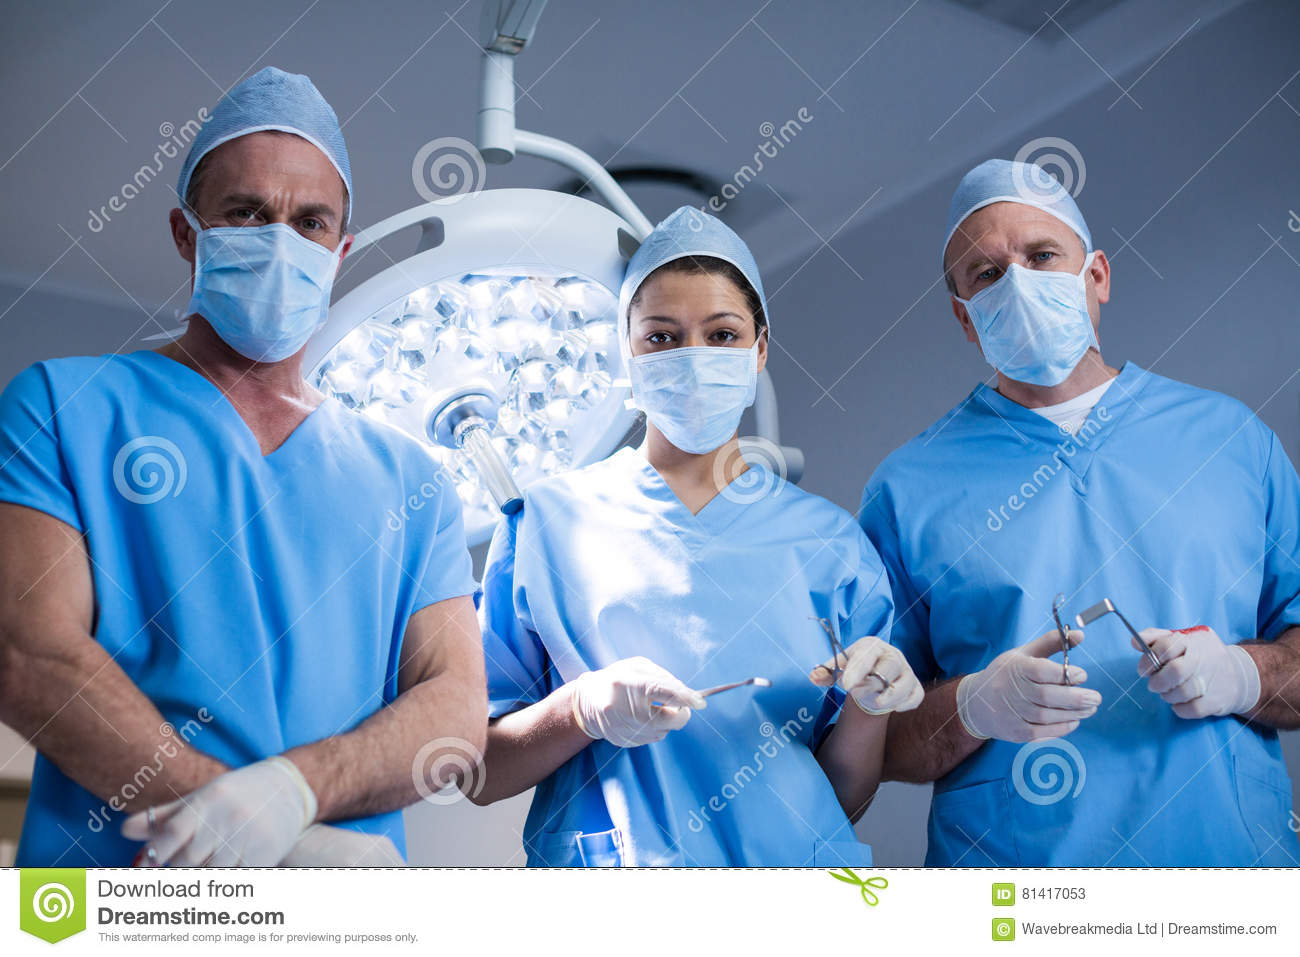mask: (188, 230, 329, 391), (967, 252, 1101, 391), (631, 351, 779, 451)
